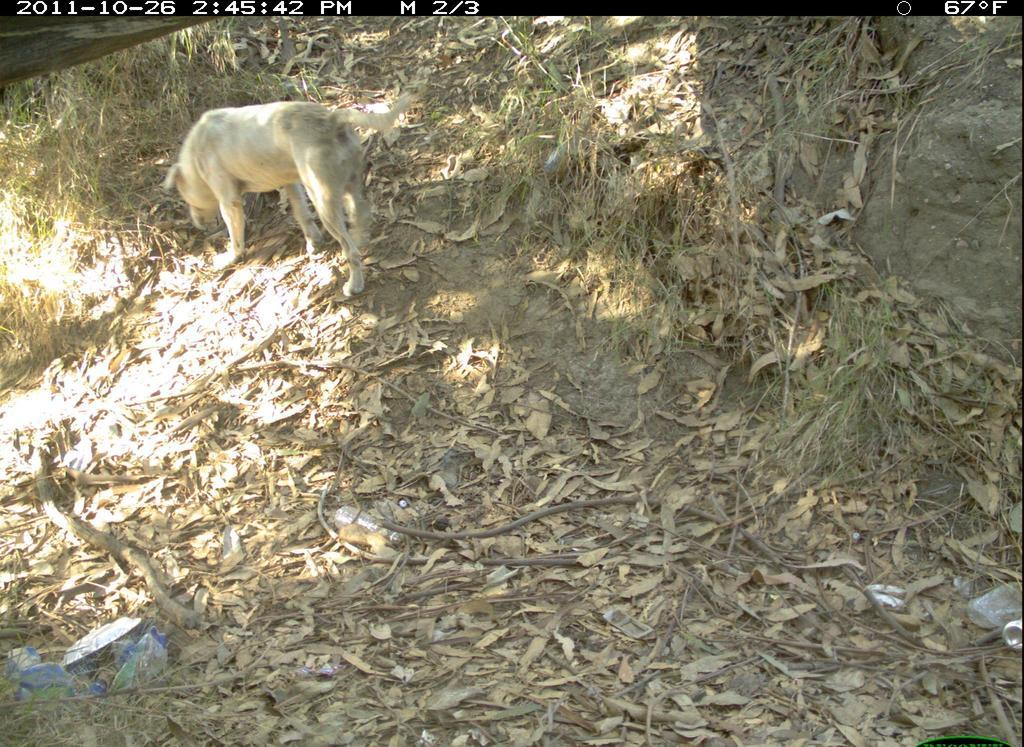dog: (155, 73, 428, 308)
